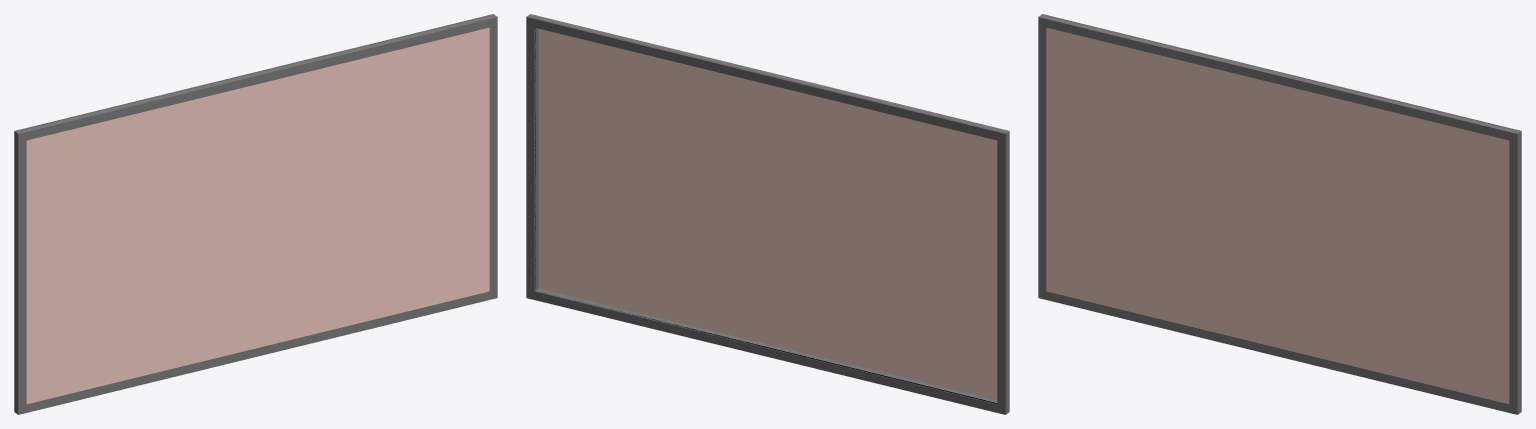
File: demo影片.glb
3 renders of one model, left to right at view 1: azimuth 30°, elevation 25°; view 2: azimuth 150°, elevation 25°; view 3: azimuth 330°, elevation 25°, orthographic.
Bounding box in the file's own units: 3.32 × 1.86 × 0.05.
